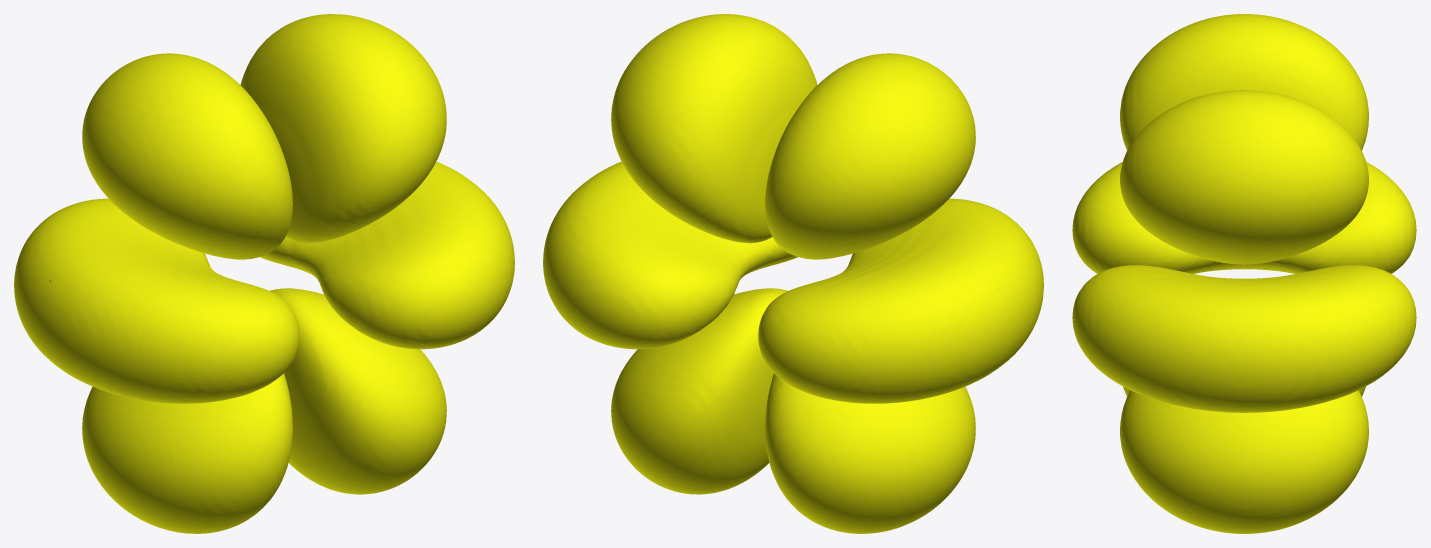
The model's file is fxz2 orbital.dae.
3 views of the same model, side by side, from view 1: azimuth 30°, elevation 25°; view 2: azimuth 150°, elevation 25°; view 3: azimuth 270°, elevation 25° (orthographic). The views are drawn at different scales.
Visible parts, largest first — view 1: fxz2 - 1, fxz2 - 2; view 2: fxz2 - 1, fxz2 - 2; view 3: fxz2 - 1, fxz2 - 2.
Part boxes in pixels (x1,y1,x2,y2): fxz2 - 1: (14,14,446,494); fxz2 - 2: (82,53,514,533); fxz2 - 1: (611,14,1043,494); fxz2 - 2: (543,53,975,533); fxz2 - 1: (1072,90,1416,533); fxz2 - 2: (1072,14,1416,412).
Bounding box in the file's own units: 65.77 × 46.55 × 64.06.
